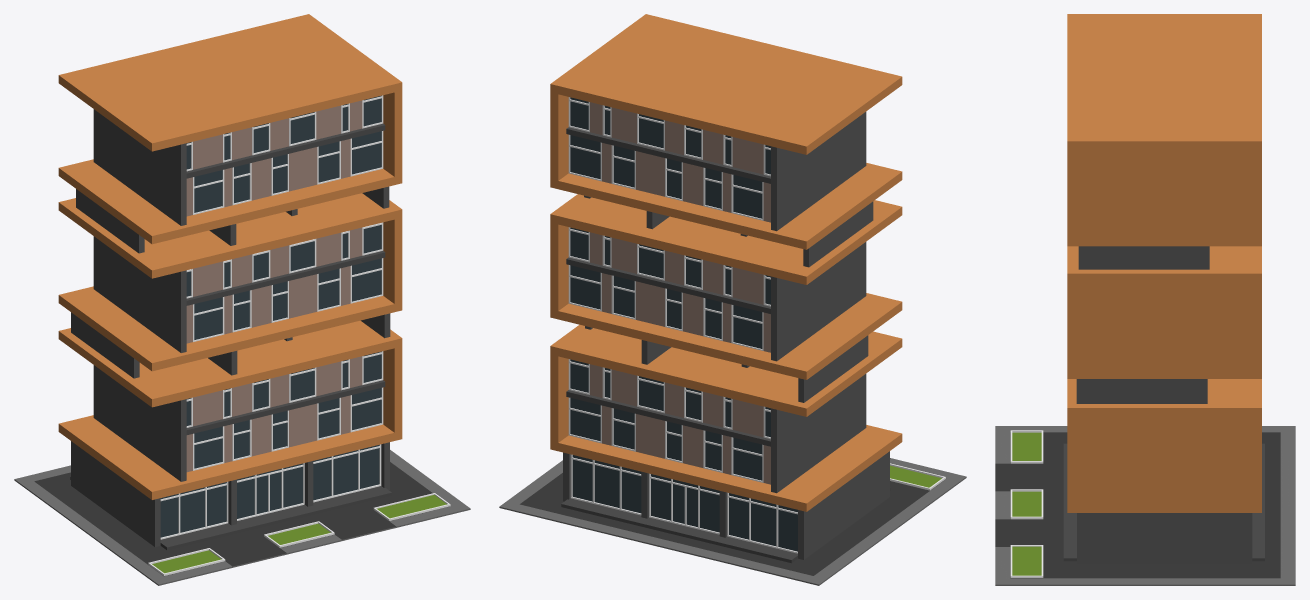
The model's file is bldg-sky-a.glb.
The picture shows the model from 3 angles, left to right: view 1: azimuth 30°, elevation 25°; view 2: azimuth 150°, elevation 25°; view 3: azimuth 270°, elevation 25°; orthographic projection. The views are drawn at different scales.
Visible parts, largest first — view 1: highlivingbuilding_a; view 2: highlivingbuilding_a; view 3: highlivingbuilding_a.
Boxes of the visible parts, x1,y1,x2,y2 form: highlivingbuilding_a: [14, 14, 470, 585]; highlivingbuilding_a: [499, 14, 966, 585]; highlivingbuilding_a: [995, 14, 1295, 585].
Size of the model in its own units: 25 by 31.41 by 20.
Materials: 1 (1 with a texture image).
